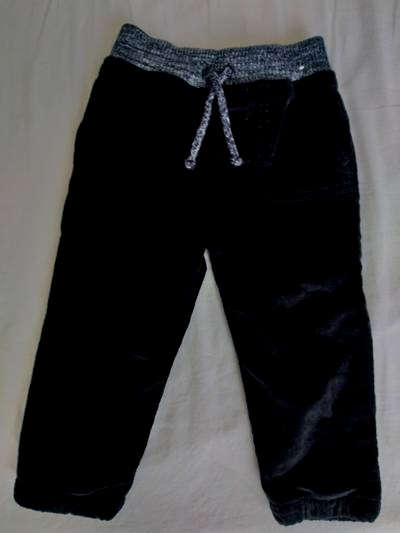Pants: (16, 11, 394, 520)
